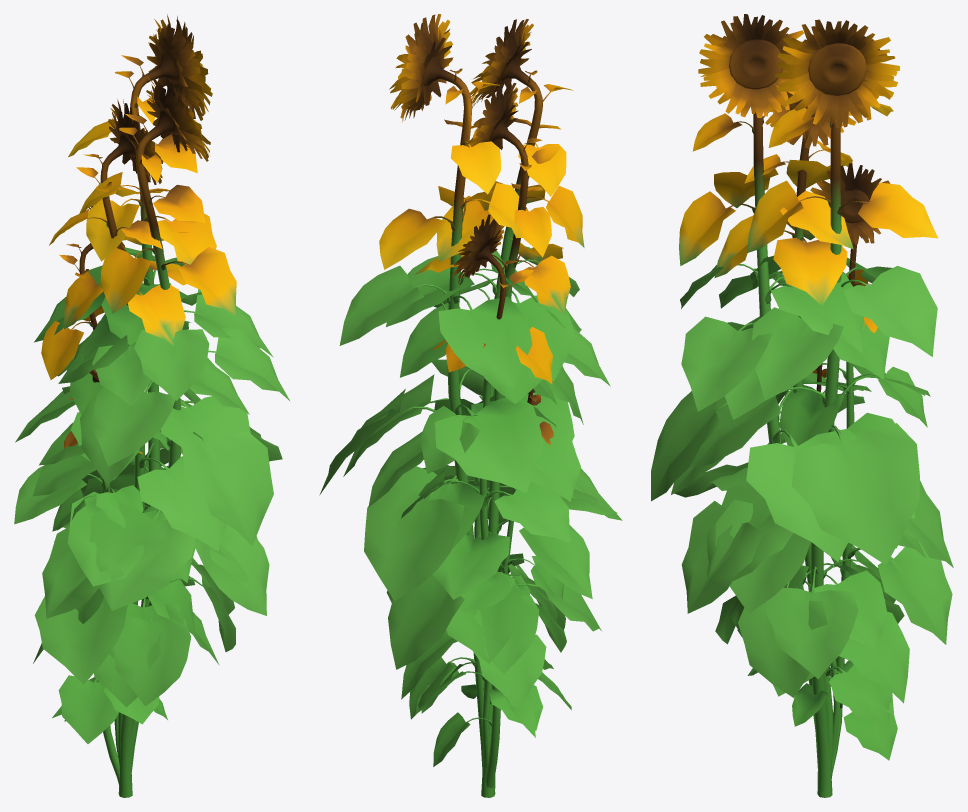
Rendered from gltf_Sunflowers_painted.glb.
3 views of the same model, side by side, from view 1: azimuth 30°, elevation 25°; view 2: azimuth 150°, elevation 25°; view 3: azimuth 270°, elevation 25° (orthographic). The views are drawn at different scales.
Visible parts, largest first — view 1: Sunflower_01, Sunflower_02, Sunflower_03, Sunflower_04, Sunflower_05; view 2: Sunflower_02, Sunflower_03, Sunflower_01, Sunflower_04, Sunflower_05; view 3: Sunflower_02, Sunflower_01, Sunflower_03, Sunflower_04, Sunflower_05.
Boxes of the visible parts, <box> form: Sunflower_01: <box>39,74,290,796</box>; Sunflower_02: <box>15,14,273,797</box>; Sunflower_03: <box>33,99,249,765</box>; Sunflower_04: <box>14,206,219,785</box>; Sunflower_05: <box>33,357,195,757</box>; Sunflower_02: <box>319,14,617,797</box>; Sunflower_03: <box>368,83,592,781</box>; Sunflower_01: <box>343,19,622,790</box>; Sunflower_04: <box>388,214,601,788</box>; Sunflower_05: <box>401,389,563,769</box>; Sunflower_02: <box>692,19,953,797</box>; Sunflower_01: <box>651,14,926,796</box>; Sunflower_03: <box>671,91,918,771</box>; Sunflower_04: <box>773,163,952,778</box>; Sunflower_05: <box>747,365,909,763</box>.
Size of the model in its own units: 0.7045 by 2.16 by 0.7339.
